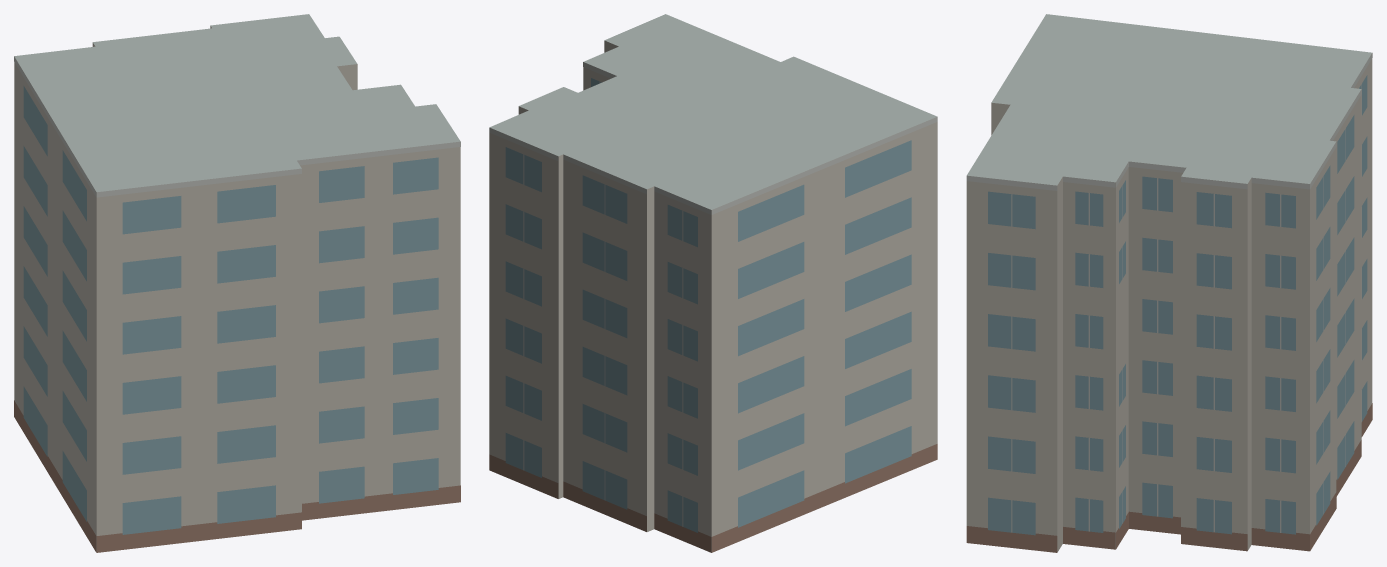
The model's file is survey-upis-32969748.glb.
3 views of the same model, side by side, from view 1: azimuth 30°, elevation 25°; view 2: azimuth 150°, elevation 25°; view 3: azimuth 270°, elevation 25° (orthographic). The views are drawn at different scales.
Parts seen in each view (by area): view 1: survey-upis-32969748.tmp; view 2: survey-upis-32969748.tmp; view 3: survey-upis-32969748.tmp.
Part boxes in pixels (box(x1,y1,x2,y2)): survey-upis-32969748.tmp: box(14, 14, 460, 552); survey-upis-32969748.tmp: box(489, 14, 937, 552); survey-upis-32969748.tmp: box(966, 14, 1372, 552).
Bounding box in the file's own units: 16.54 × 16.5 × 16.53.
